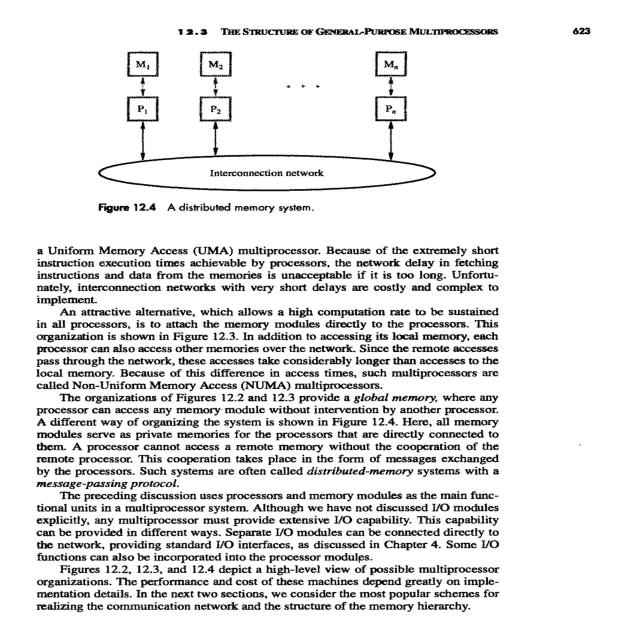diagram: (20, 30, 630, 244)
